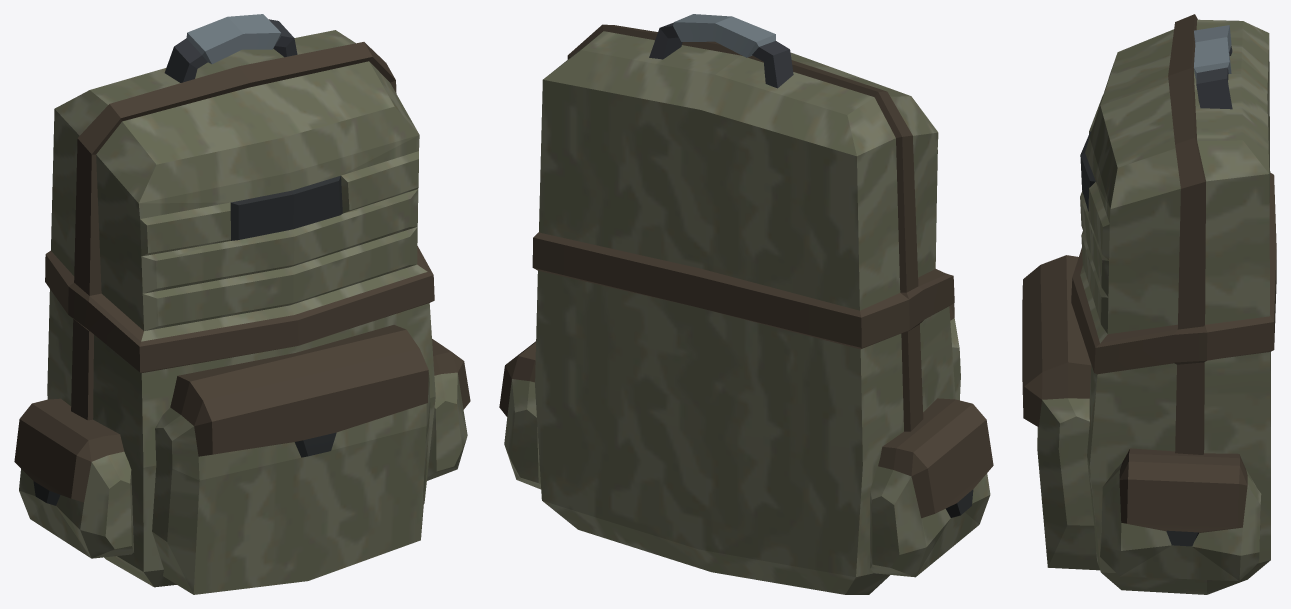
File: SM_Prop_Hunting_Backpack_01.obj
3 renders of one model, left to right at view 1: azimuth 30°, elevation 25°; view 2: azimuth 150°, elevation 25°; view 3: azimuth 270°, elevation 25°, orthographic. The views are drawn at different scales.
Parts seen in each view (by area): view 1: SM_Prop_Hunting_Backpack_01_0; view 2: SM_Prop_Hunting_Backpack_01_0; view 3: SM_Prop_Hunting_Backpack_01_0.
Boxes of the visible parts, x1=… form: SM_Prop_Hunting_Backpack_01_0: x1=14, y1=14, x2=470, y2=594; SM_Prop_Hunting_Backpack_01_0: x1=499, y1=14, x2=993, y2=594; SM_Prop_Hunting_Backpack_01_0: x1=1022, y1=14, x2=1276, y2=594.
Bounding box in the file's own units: 0.4518 × 0.5454 × 0.2473.
Materials: 1 (1 with a texture image).
